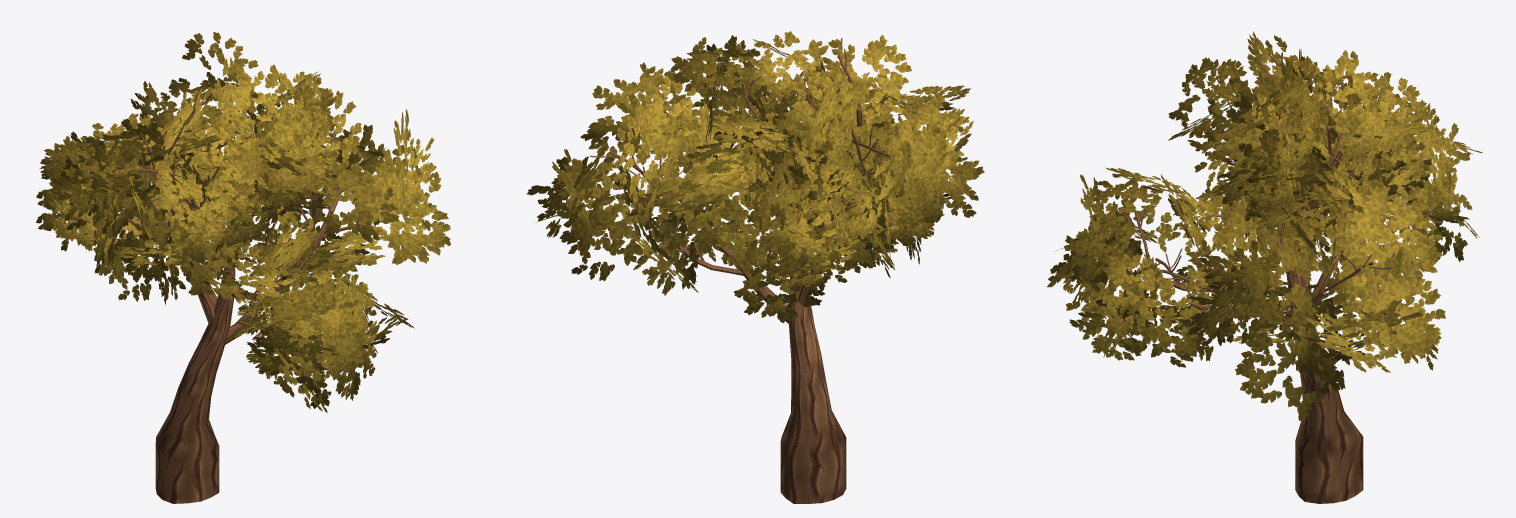
File: ct_heart_2.gltf
The picture shows the model from 3 angles, left to right: view 1: azimuth 30°, elevation 25°; view 2: azimuth 150°, elevation 25°; view 3: azimuth 270°, elevation 25°; orthographic projection. The views are drawn at different scales.
Parts seen in each view (by area): view 1: ct_heart_2_leaves_LOD0, ct_heart_2_trunk_LOD0; view 2: ct_heart_2_leaves_LOD0, ct_heart_2_trunk_LOD0; view 3: ct_heart_2_leaves_LOD0, ct_heart_2_trunk_LOD0.
Boxes of the visible parts, left/top/right/bottom form: ct_heart_2_leaves_LOD0: left=36, top=31, right=450, bottom=412; ct_heart_2_trunk_LOD0: left=101, top=93, right=399, bottom=503; ct_heart_2_leaves_LOD0: left=527, top=31, right=984, bottom=323; ct_heart_2_trunk_LOD0: left=590, top=38, right=903, bottom=503; ct_heart_2_leaves_LOD0: left=1047, top=31, right=1482, bottom=420; ct_heart_2_trunk_LOD0: left=1102, top=52, right=1427, bottom=503.
Size of what is drawn, in the model's own units: 8.69 by 8.64 by 7.99.
2 materials, 2 textured.
